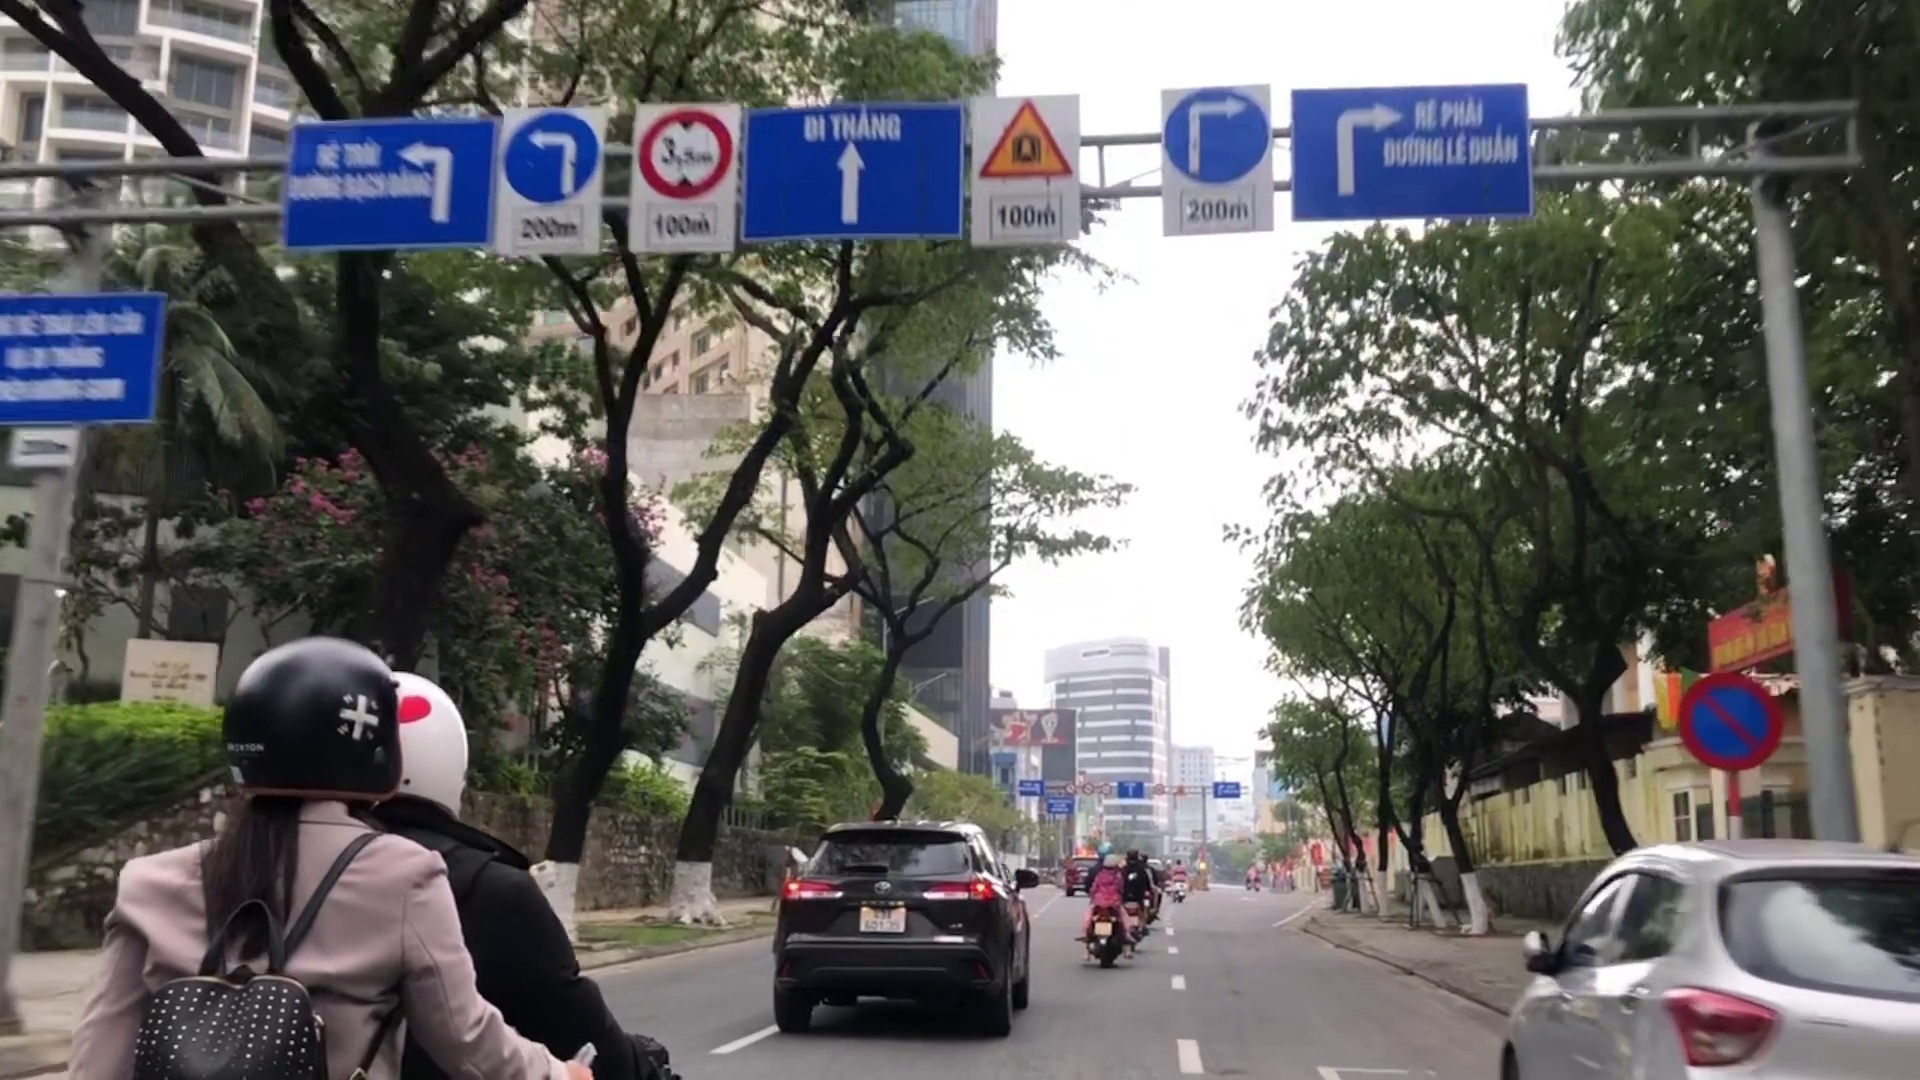Cam do xe: (1673, 671, 1785, 770)
